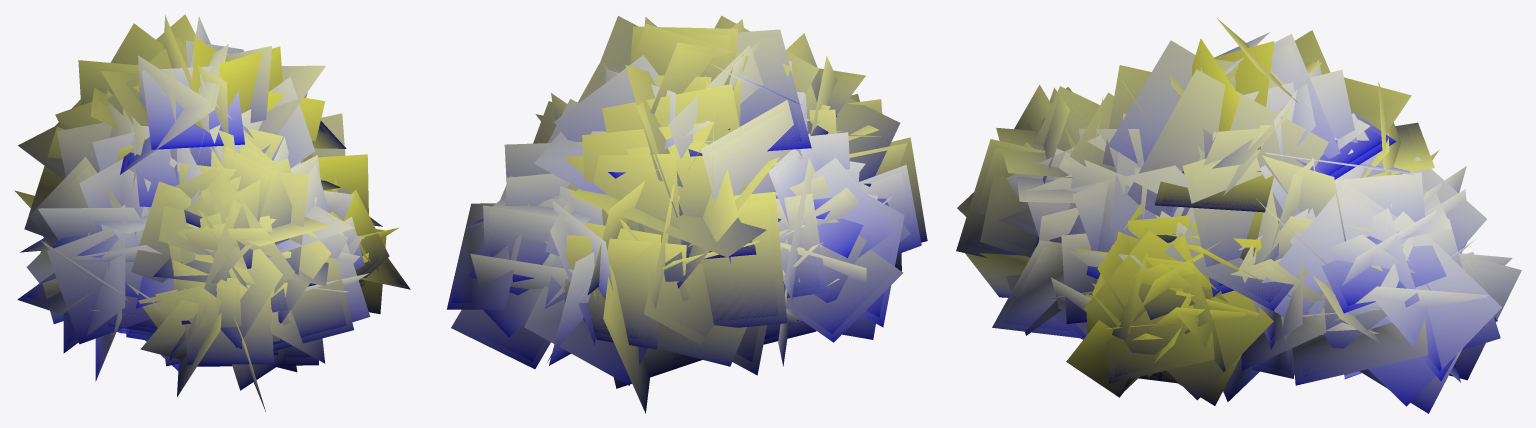
The picture shows the model from 3 angles, left to right: view 1: azimuth 30°, elevation 25°; view 2: azimuth 150°, elevation 25°; view 3: azimuth 270°, elevation 25°; orthographic projection. The views are drawn at different scales.
Parts seen in each view (by area): view 1: Bush_Large_LOD0, Bush_Large; view 2: Bush_Large_LOD0, Bush_Large; view 3: Bush_Large_LOD0, Bush_Large.
Part boxes in pixels (x1,y1,x2,y2): Bush_Large_LOD0: [17, 15, 410, 411]; Bush_Large: [14, 14, 403, 390]; Bush_Large_LOD0: [447, 15, 927, 413]; Bush_Large: [452, 17, 919, 387]; Bush_Large_LOD0: [956, 18, 1521, 406]; Bush_Large: [965, 25, 1510, 413].
Bounding box in the file's own units: 2.47 × 2.09 × 3.19.
